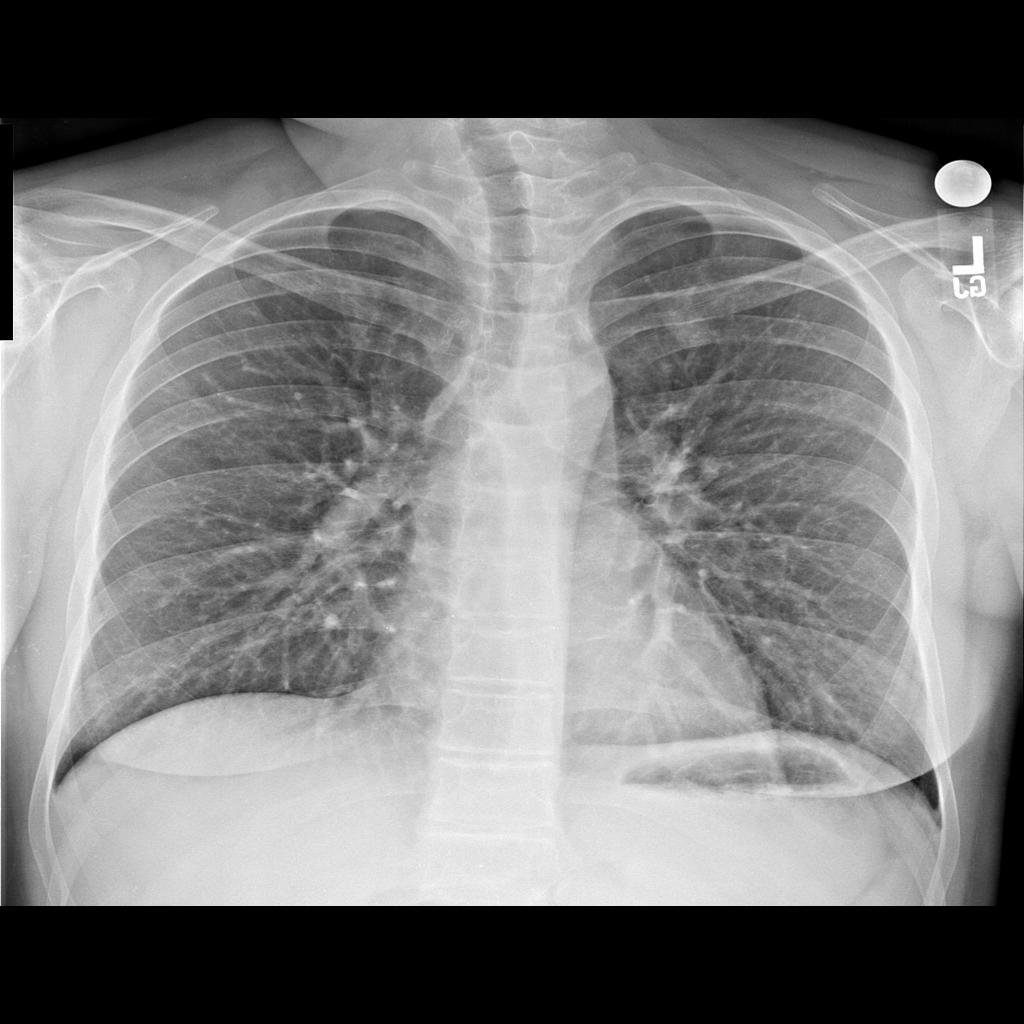Nodule: (666, 307, 727, 364)
